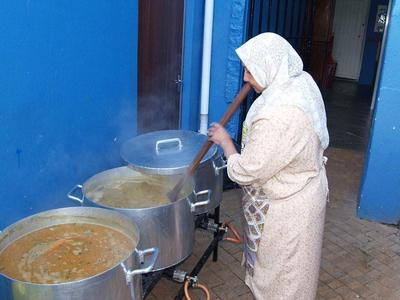person: (208, 31, 331, 300)
